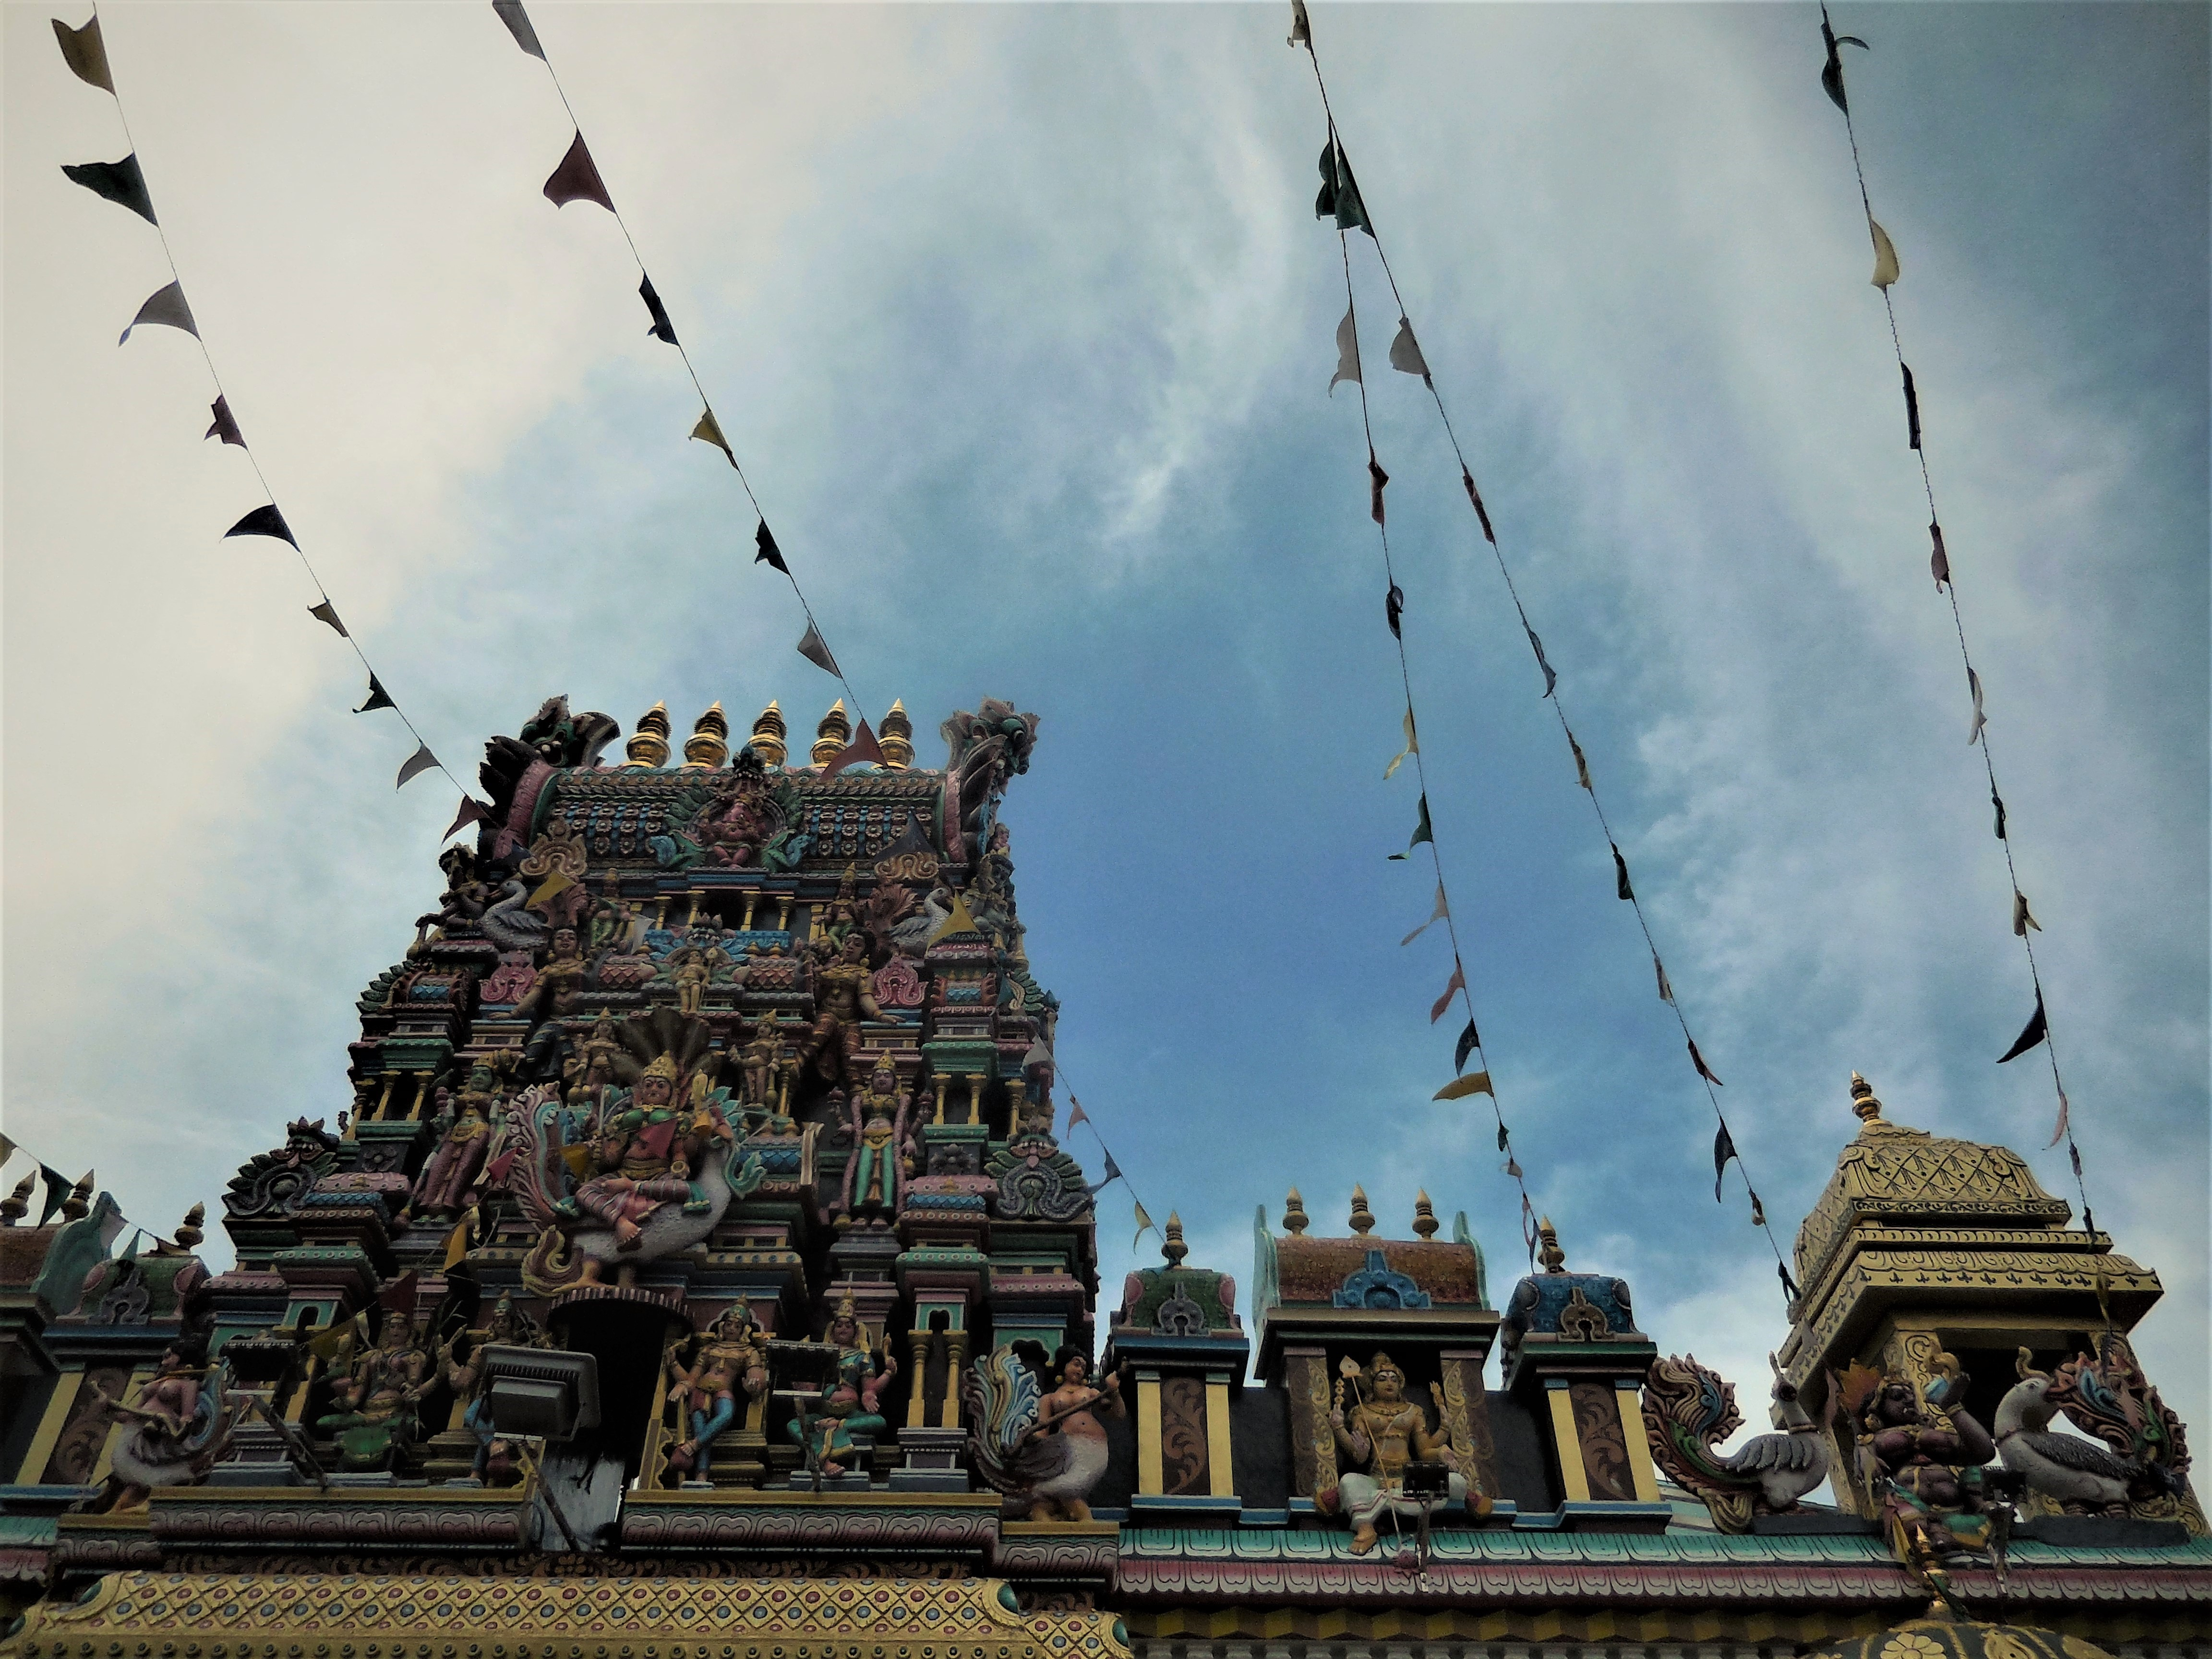Hindu Temple: (270, 653, 1103, 1513)
